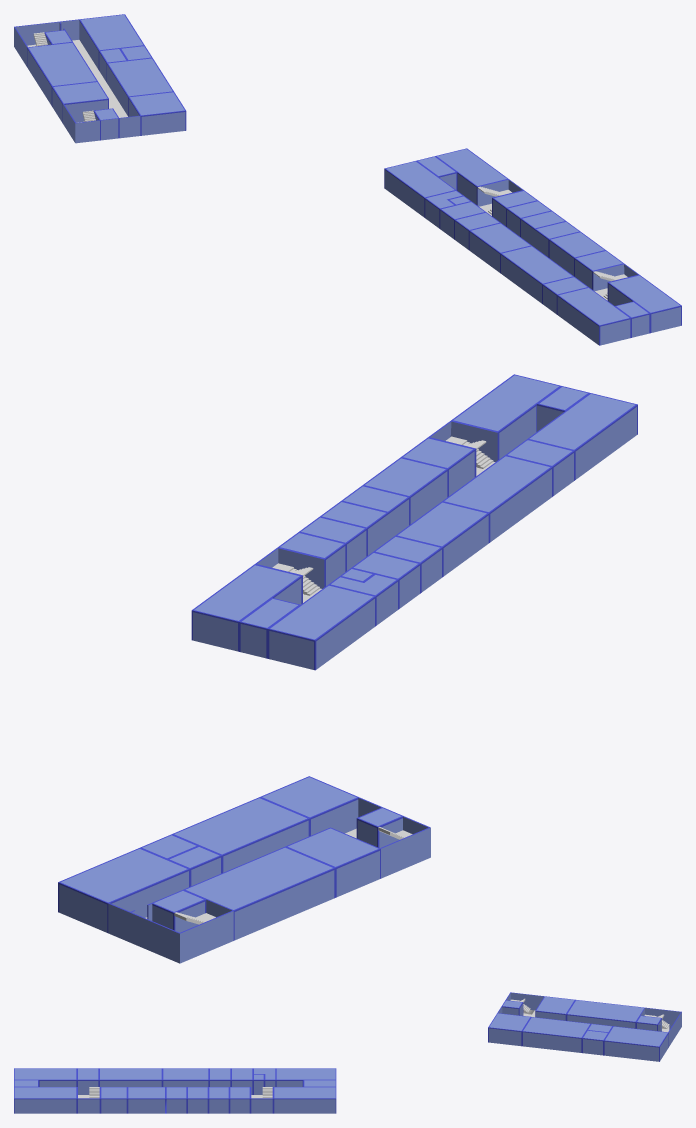
Rendered from dstu_7.glb.
The picture shows the model from 3 angles, top to bottom: view 1: azimuth 30°, elevation 25°; view 2: azimuth 150°, elevation 25°; view 3: azimuth 270°, elevation 25°; orthographic projection. The views are drawn at different scales.
Parts seen in each view (by area): view 1: 7, 67; view 2: 7, 67; view 3: 7, 67.
Part boxes in pixels (x1,y1,x2,y2): 7: (384, 148, 681, 345); 67: (14, 14, 186, 143); 7: (191, 374, 637, 670); 67: (58, 776, 430, 963); 7: (14, 1068, 336, 1113); 67: (488, 992, 681, 1061).
Bounding box in the file's own units: 43.4 × 4.23 × 121.
